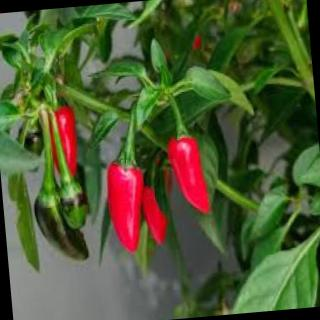Cabai Hijau: (36, 183, 96, 261)
Cabai Merah: (106, 161, 143, 254), (170, 139, 211, 216), (54, 109, 78, 178)
